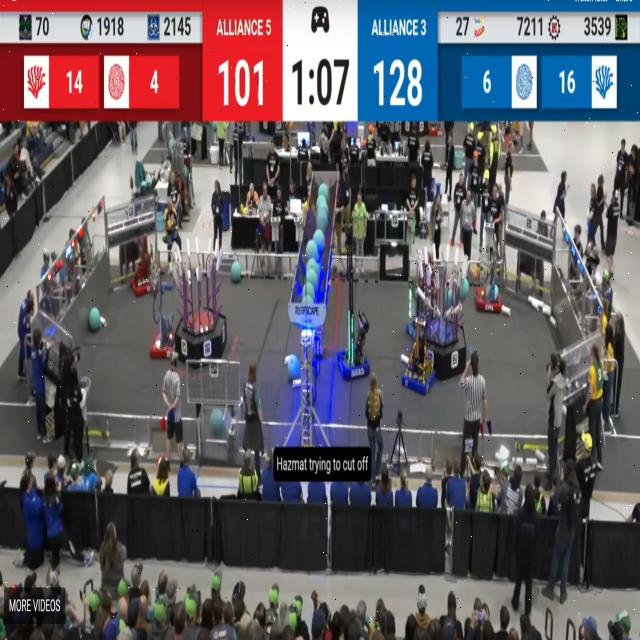Robot-YfA7: (338, 223, 371, 380), (129, 229, 156, 298), (402, 341, 436, 394), (146, 311, 178, 359), (475, 273, 506, 314)
